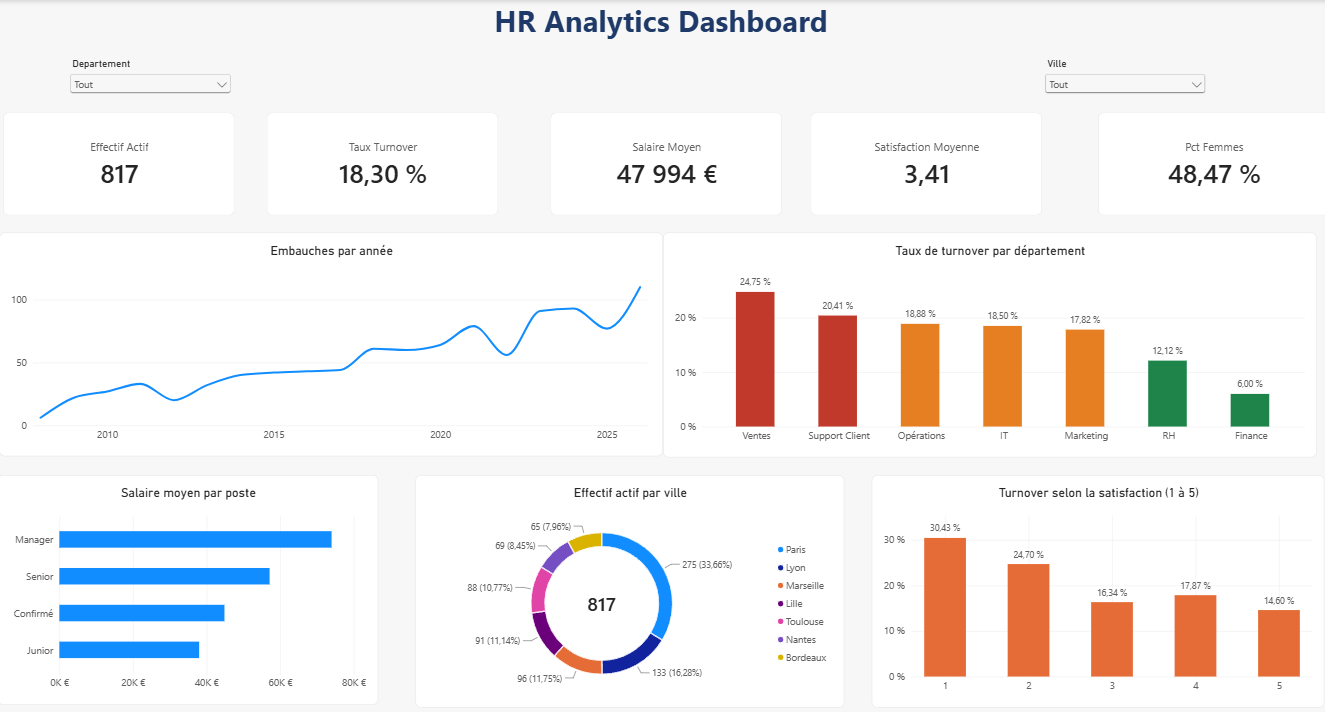

The page's visual inventory and layout, read from the dashboard file:
{"tool":"powerbi","page":{"name":"Vue d’ensemble RH","canvas":[1920,1080],"ordinal":0},"visuals":[{"type":"textbox","box":[0,0,1920.1,68.8],"z":0},{"type":"cardVisual","fields":{"Data":["_Mesures.Effectif Actif"]},"box":[7,162.1,335.2,149.4],"z":1000},{"type":"cardVisual","fields":{"Data":["_Mesures.Taux Turnover"]},"box":[389.6,162.1,335.2,149.4],"z":2000},{"type":"cardVisual","fields":{"Data":["_Mesures.Salaire Moyen"]},"box":[799.6,162.1,335.2,149.4],"z":3000},{"type":"cardVisual","fields":{"Data":["_Mesures.Satisfaction Moyenne"]},"box":[1176.7,162.1,335.2,149.4],"z":4000},{"type":"cardVisual","fields":{"Data":["_Mesures.Pct Femmes"]},"box":[1592.1,162.1,335.2,149.4],"z":5000},{"type":"lineChart","title":"Embauches par année","fields":{"Category":["Calendrier.Annee"],"Y":["_Mesures.Embauches"]},"box":[1.4,335.9,960.9,323.9],"z":6000},{"type":"clusteredColumnChart","title":"Taux de turnover par département","fields":{"Category":["Employes.departement"],"Y":["_Mesures.Taux Turnover"]},"box":[962.4,335.9,946.5,325.7],"z":7000},{"type":"clusteredBarChart","title":"Salaire moyen par poste","fields":{"Category":["Employes.poste"],"Y":["_Mesures.Salaire Moyen"]},"box":[0,687.7,550.1,333],"z":8000},{"type":"donutChart","title":"Effectif actif par ville","fields":{"Category":["Employes.ville"],"Y":["_Mesures.Effectif Actif"]},"box":[604.4,687.7,620.7,336.6],"z":9000},{"type":"clusteredColumnChart","title":"Turnover selon la satisfaction (1 à 5)","fields":{"Category":["Employes.satisfaction"],"Y":["_Mesures.Taux Turnover"]},"box":[1265,687.7,655.1,336.6],"z":10000},{"type":"slicer","fields":{"Values":["Employes.departement"]},"box":[99.5,83.1,242.5,55],"z":11000},{"type":"slicer","fields":{"Values":["Employes.ville"]},"box":[1511.1,83.1,242,55],"z":12000}]}

Visuals, with their boxes on the page's 1920x1080 design canvas (x1, y1, x2, y2). These are canvas units, not pixel positions in the 1325x712 screenshot, which may show the page scaled, cropped or inside an application window:
textbox: x1=0, y1=0, x2=1920, y2=69
cardVisual - _Mesures.Effectif Actif: x1=7, y1=162, x2=342, y2=312
cardVisual - _Mesures.Taux Turnover: x1=390, y1=162, x2=725, y2=312
cardVisual - _Mesures.Salaire Moyen: x1=800, y1=162, x2=1135, y2=312
cardVisual - _Mesures.Satisfaction Moyenne: x1=1177, y1=162, x2=1512, y2=312
cardVisual - _Mesures.Pct Femmes: x1=1592, y1=162, x2=1927, y2=312
"Embauches par année" lineChart: x1=1, y1=336, x2=962, y2=660
"Taux de turnover par département" clusteredColumnChart: x1=962, y1=336, x2=1909, y2=662
"Salaire moyen par poste" clusteredBarChart: x1=0, y1=688, x2=550, y2=1021
"Effectif actif par ville" donutChart: x1=604, y1=688, x2=1225, y2=1024
"Turnover selon la satisfaction (1 à 5)" clusteredColumnChart: x1=1265, y1=688, x2=1920, y2=1024
slicer - Employes.departement: x1=100, y1=83, x2=342, y2=138
slicer - Employes.ville: x1=1511, y1=83, x2=1753, y2=138
